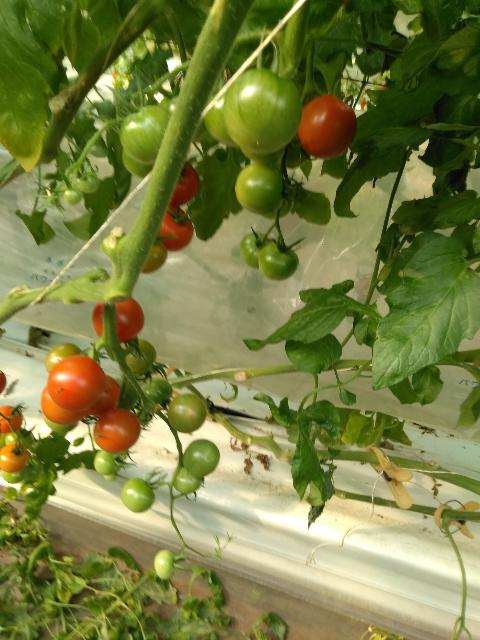l_fully_ripened: (297, 95, 357, 159), (46, 354, 106, 411), (91, 298, 144, 344), (156, 203, 194, 252), (169, 160, 200, 205), (89, 373, 121, 416), (0, 406, 23, 434)
l_green: (223, 69, 302, 155), (120, 105, 170, 164), (235, 163, 285, 216), (205, 86, 239, 148), (258, 239, 298, 282), (167, 394, 206, 433), (183, 439, 220, 479), (121, 339, 156, 374), (260, 182, 293, 219), (121, 478, 155, 513), (45, 343, 82, 375), (122, 148, 156, 181), (240, 233, 271, 269), (278, 133, 308, 169), (141, 235, 169, 273), (141, 377, 172, 406), (172, 464, 201, 494), (240, 147, 284, 165), (94, 448, 118, 475), (154, 550, 175, 580), (44, 415, 79, 432), (5, 428, 33, 449), (74, 171, 99, 194), (2, 465, 27, 484), (62, 185, 83, 205), (102, 471, 116, 482)
l_half_ripened: (93, 409, 142, 453), (41, 384, 91, 425), (0, 444, 30, 473)
